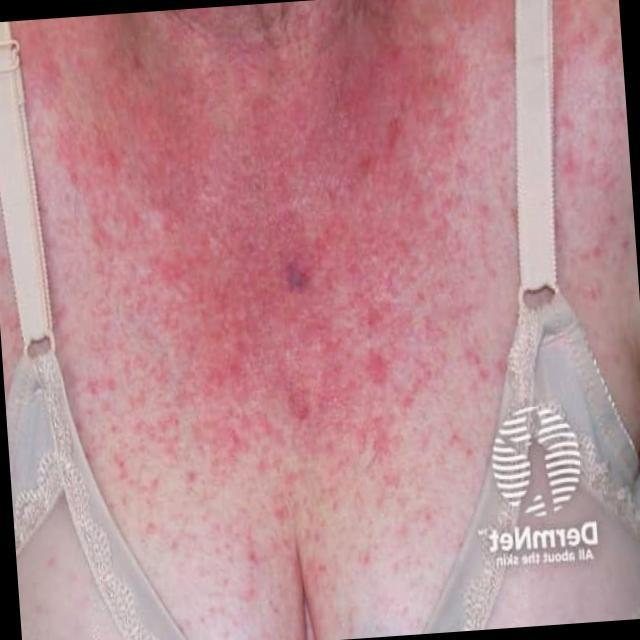Eczema: (71, 60, 486, 468)
